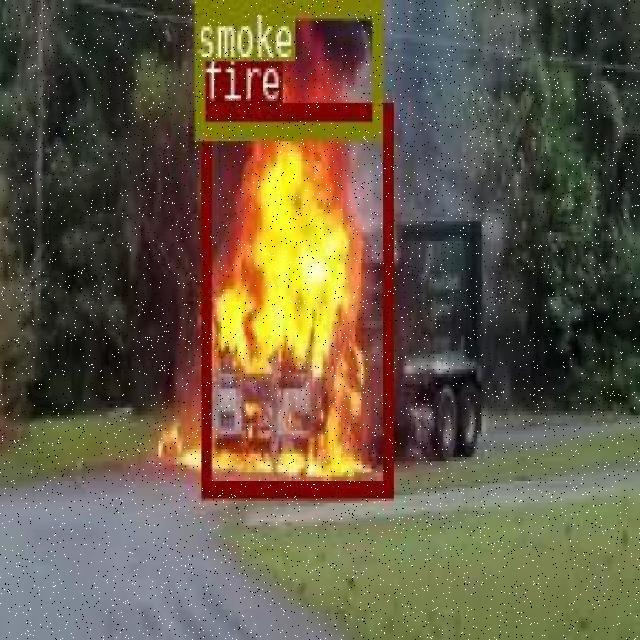Smoke: (225, 32, 346, 102)
